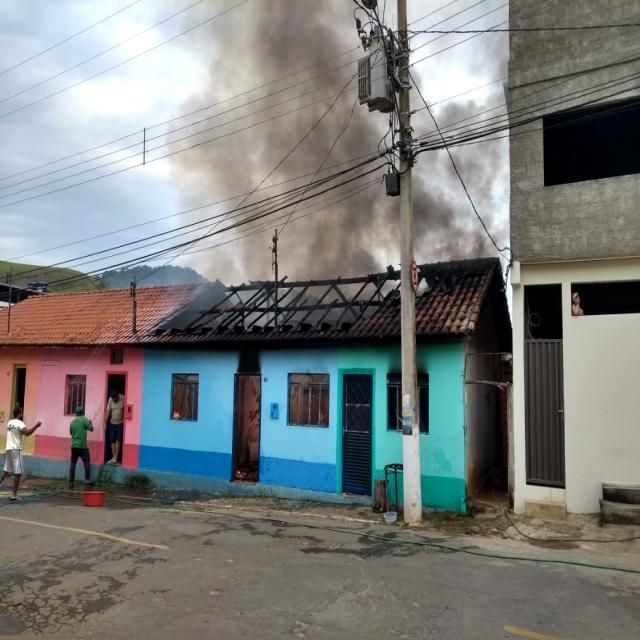Smoke: (178, 0, 502, 280)
